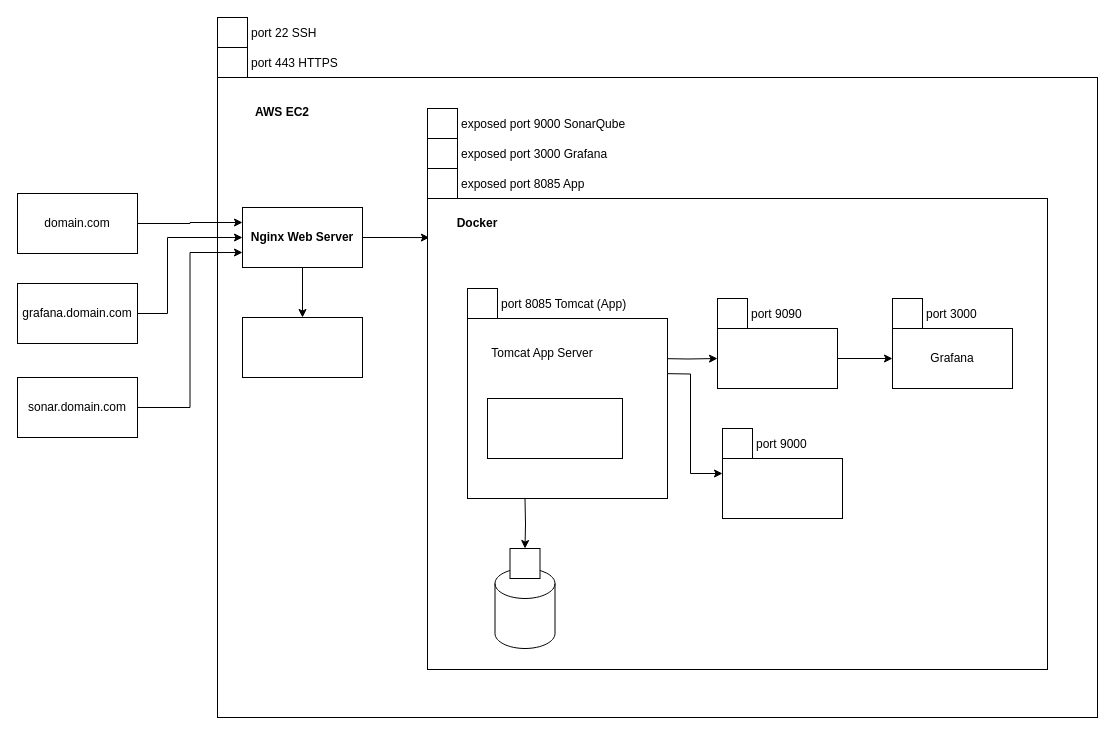
Some shapes in this 1115 by 735 pixel diagram are drawn without their labels. Each missing label, with the box of its shape:
Java Codebase: (486, 398, 622, 458)
port 5432: (509, 548, 540, 578)
Postgre SQL: (494, 568, 555, 648)
Prometheus: (716, 328, 838, 388)
SonarQube: (722, 458, 842, 518)
static html, js, css: (242, 316, 362, 378)
